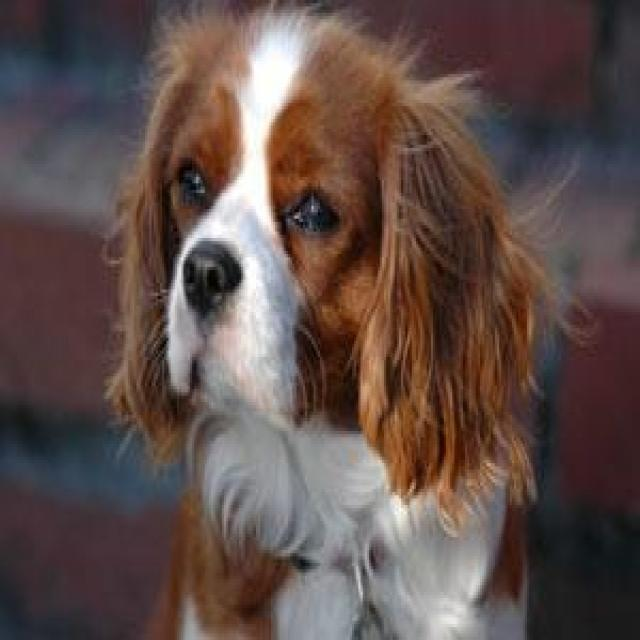sad: (93, 6, 567, 624)
